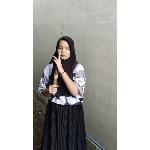Golok: (49, 23, 68, 89)
